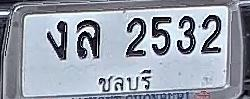2: (126, 17, 146, 57), (201, 14, 221, 53)
3: (176, 15, 196, 54)
5: (152, 17, 172, 55)
A07: (46, 20, 67, 60)
A36: (76, 20, 100, 58)
CBI: (95, 68, 154, 90)
